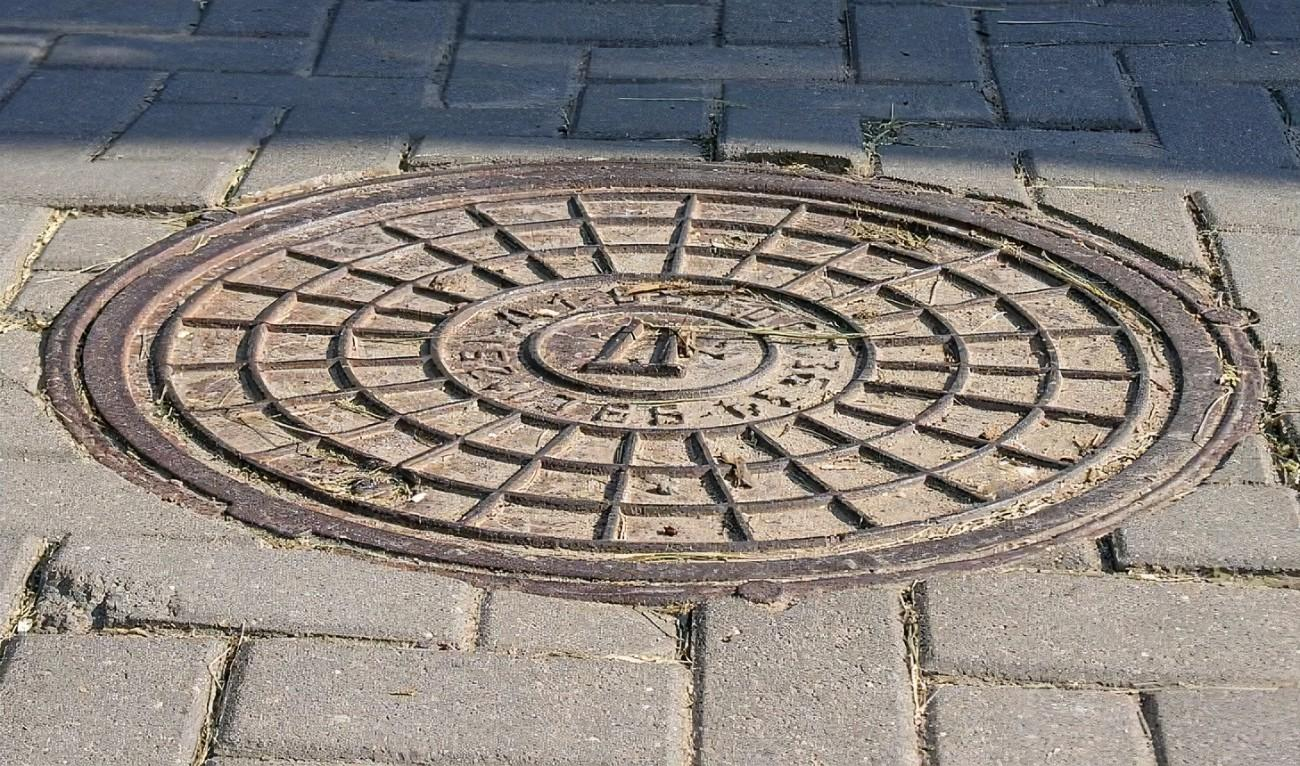wellcover: (66, 123, 1240, 578)
